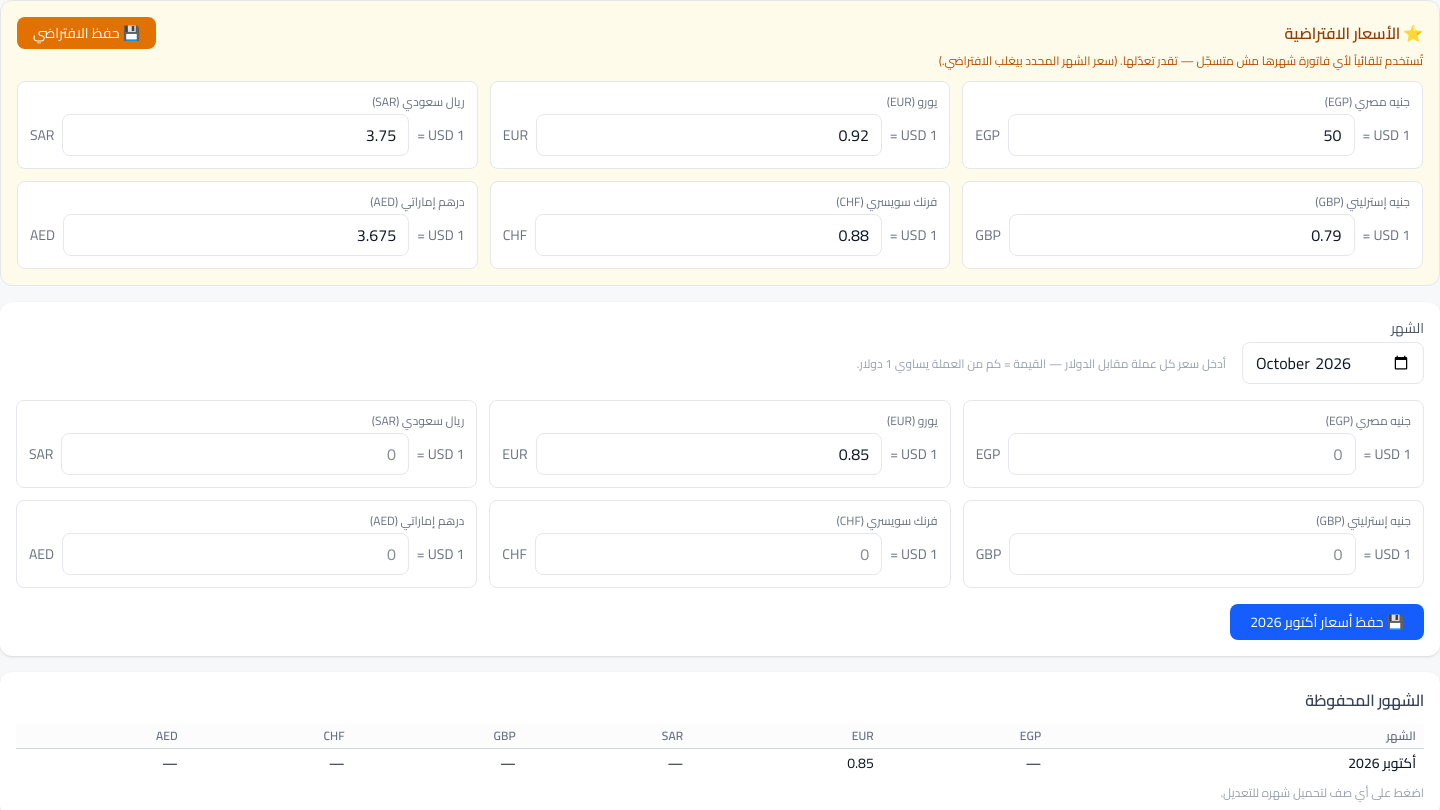
it: بطاقة الأسعار › 409: رسالةٌ صريحة وإعادة تحميل — لا «تم الحفظ»
Expected: the 8th field showing "0.85" is shown, [536,433,882,475]
Click the button "💾 حفظ أسعار أكتوبر 2026": (1327, 622) [1230,604,1424,640]
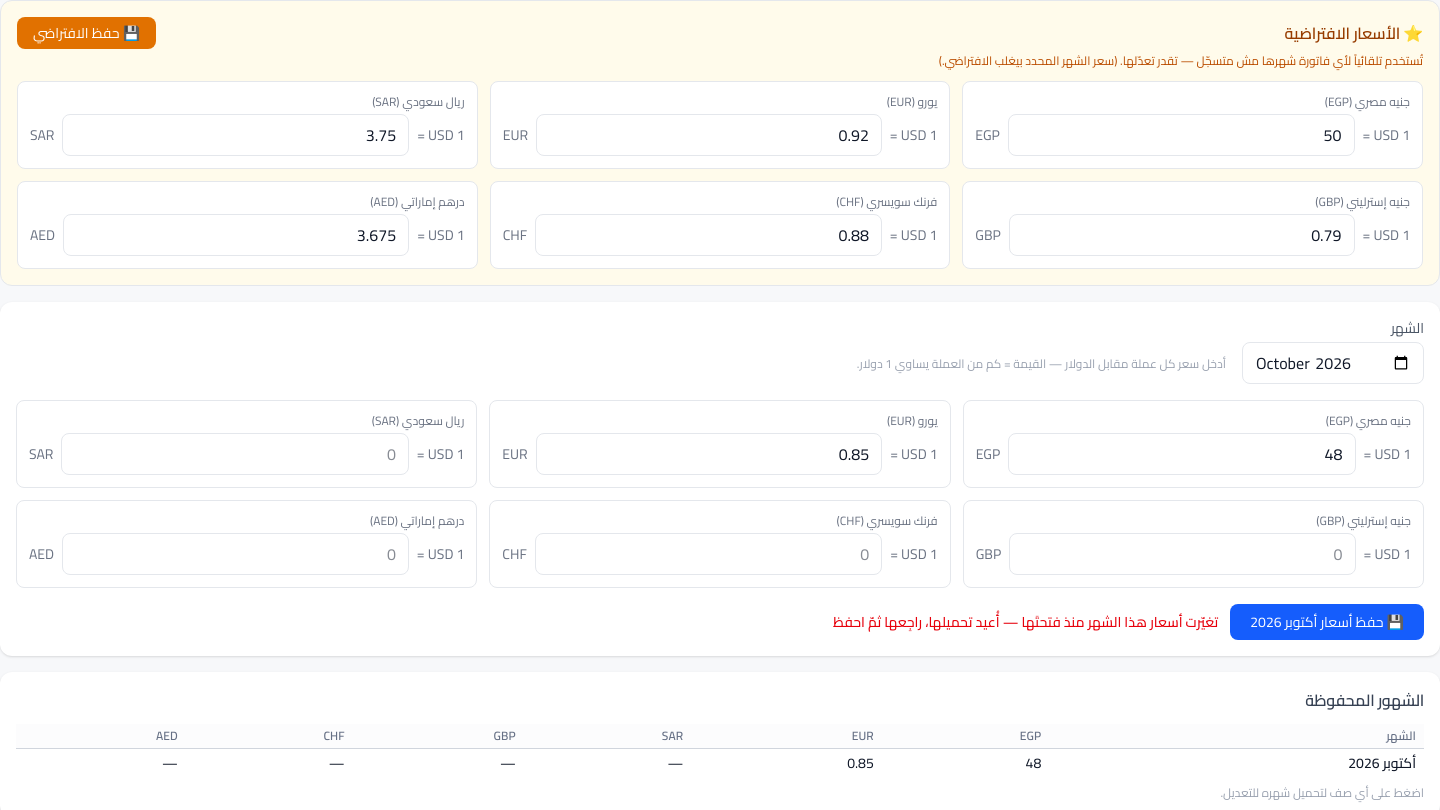
Expected: the text "تغيّرت أسعار هذا الشهر منذ فتحتَها — أُعيد تحميلها، راجِعها ثمّ احفظ" is shown, [833,612,1218,632]
Expected: the 9th field showing "48" is shown, [1008,433,1356,475]
